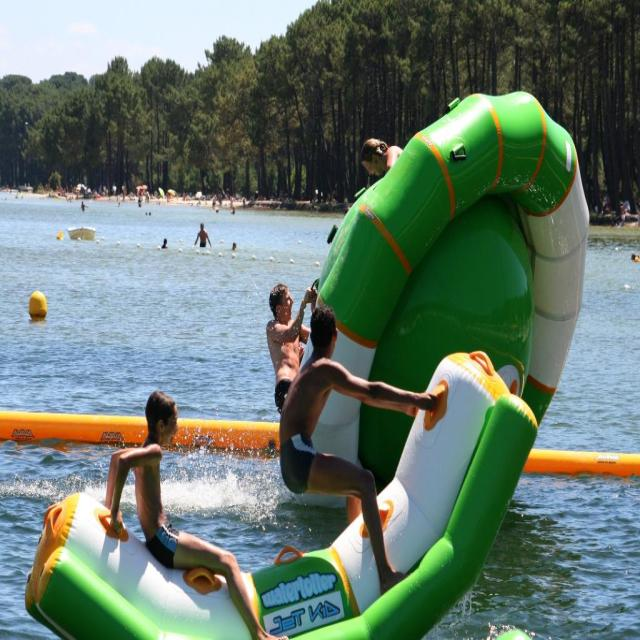Boat: (24, 294, 563, 616)
